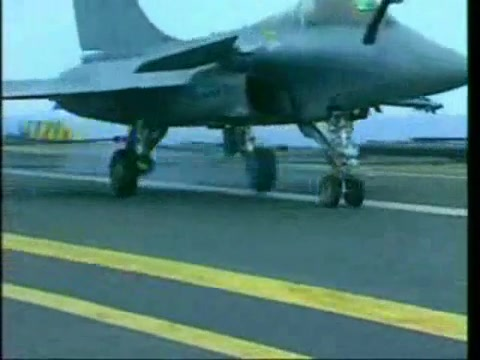aeroplane: (3, 1, 468, 210)
